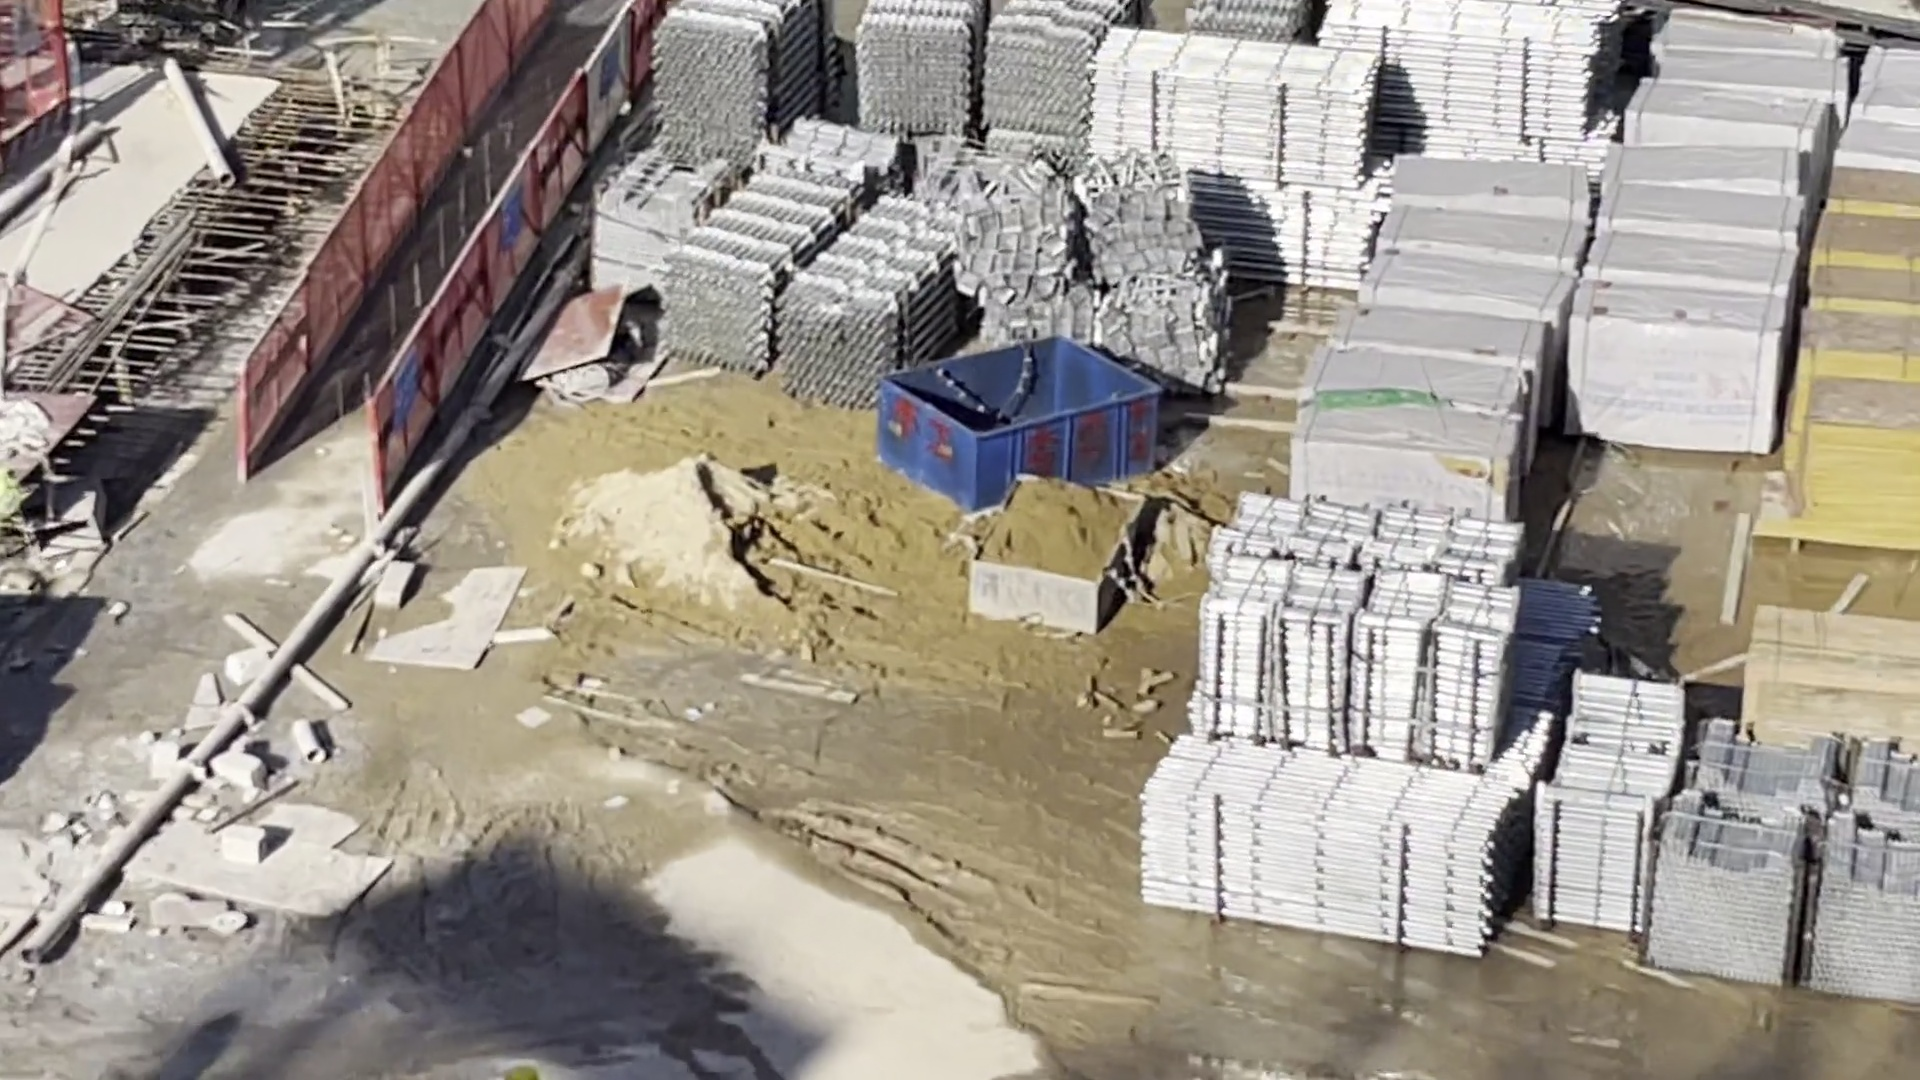board: (1805, 173, 1920, 558), (1741, 601, 1919, 731)
fence: (240, 1, 647, 454)
hopper: (877, 335, 1163, 510), (973, 469, 1139, 640)
scaffold: (1197, 492, 1523, 765), (1139, 737, 1535, 957), (1646, 731, 1920, 1013), (1095, 22, 1377, 287), (665, 179, 959, 400), (858, 1, 1139, 167), (1320, 7, 1615, 146), (1536, 674, 1687, 930), (653, 1, 825, 175)
slogan: (390, 345, 419, 429), (500, 179, 527, 249)
